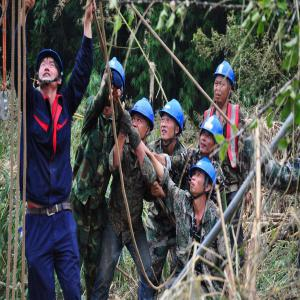blue: (36, 47, 64, 94), (102, 59, 127, 107), (131, 100, 156, 144), (192, 159, 217, 201), (161, 100, 184, 145), (213, 61, 235, 105), (200, 117, 223, 155)
